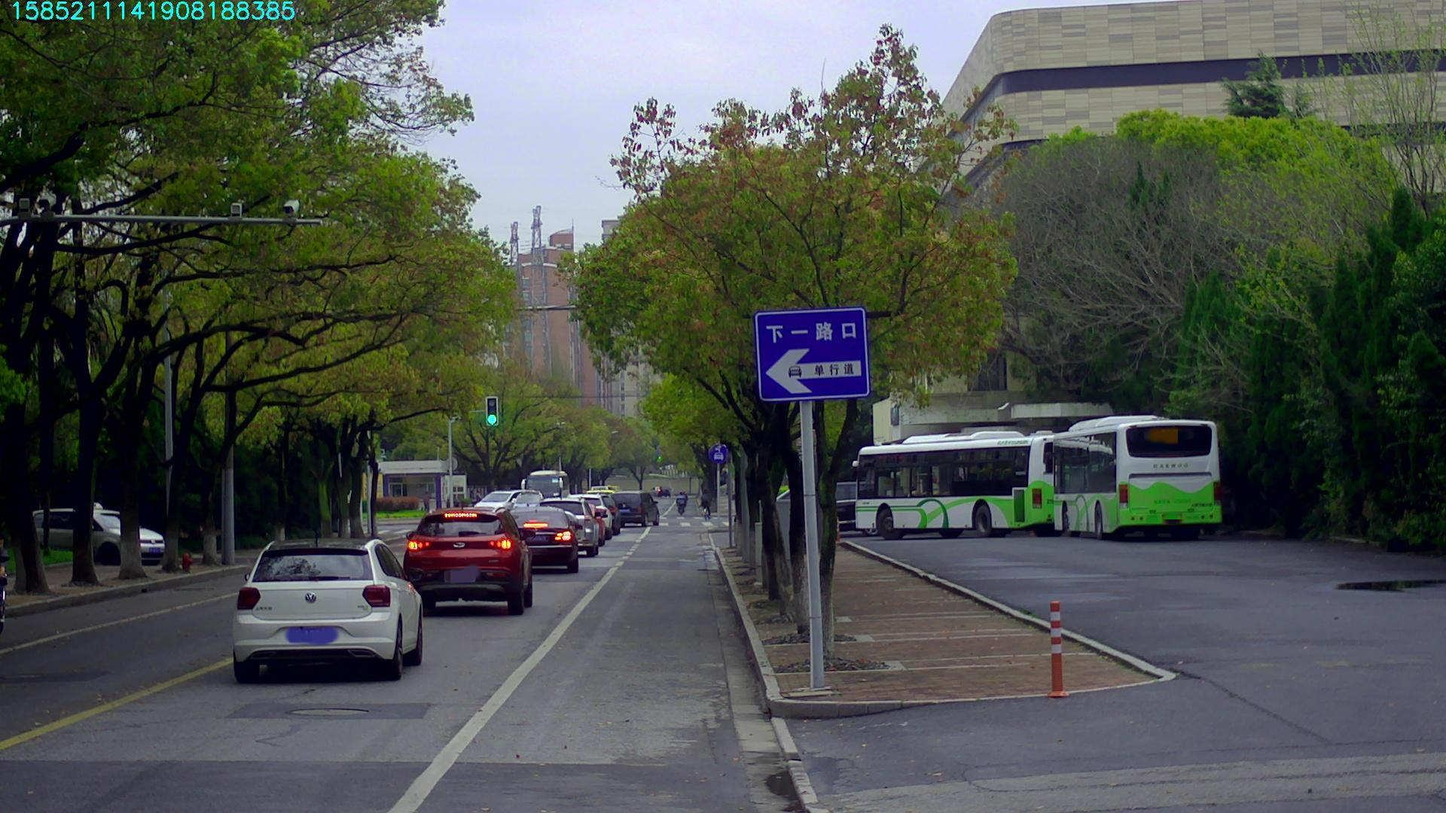green: (486, 396, 496, 425)
